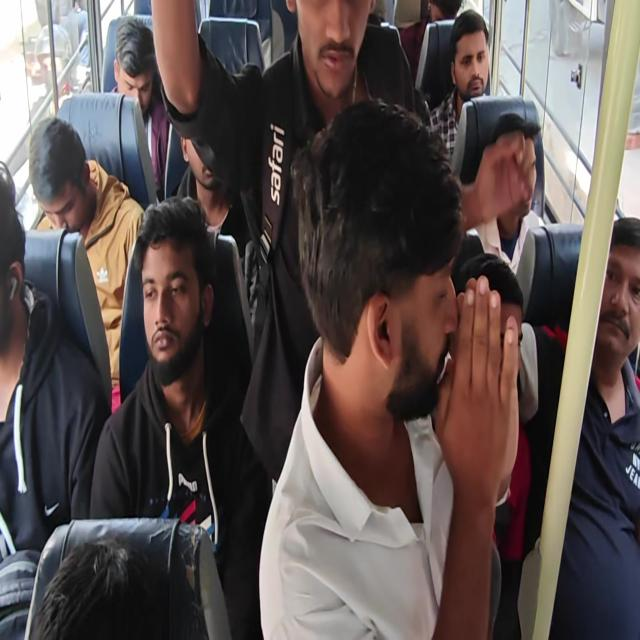person: (284, 99, 458, 411), (34, 526, 209, 640), (135, 173, 210, 397), (575, 202, 640, 388), (21, 112, 100, 250), (450, 247, 528, 372), (286, 3, 379, 92), (484, 109, 546, 218), (2, 145, 31, 371), (449, 3, 512, 107), (106, 16, 158, 114), (173, 96, 225, 192), (426, 0, 458, 33)
